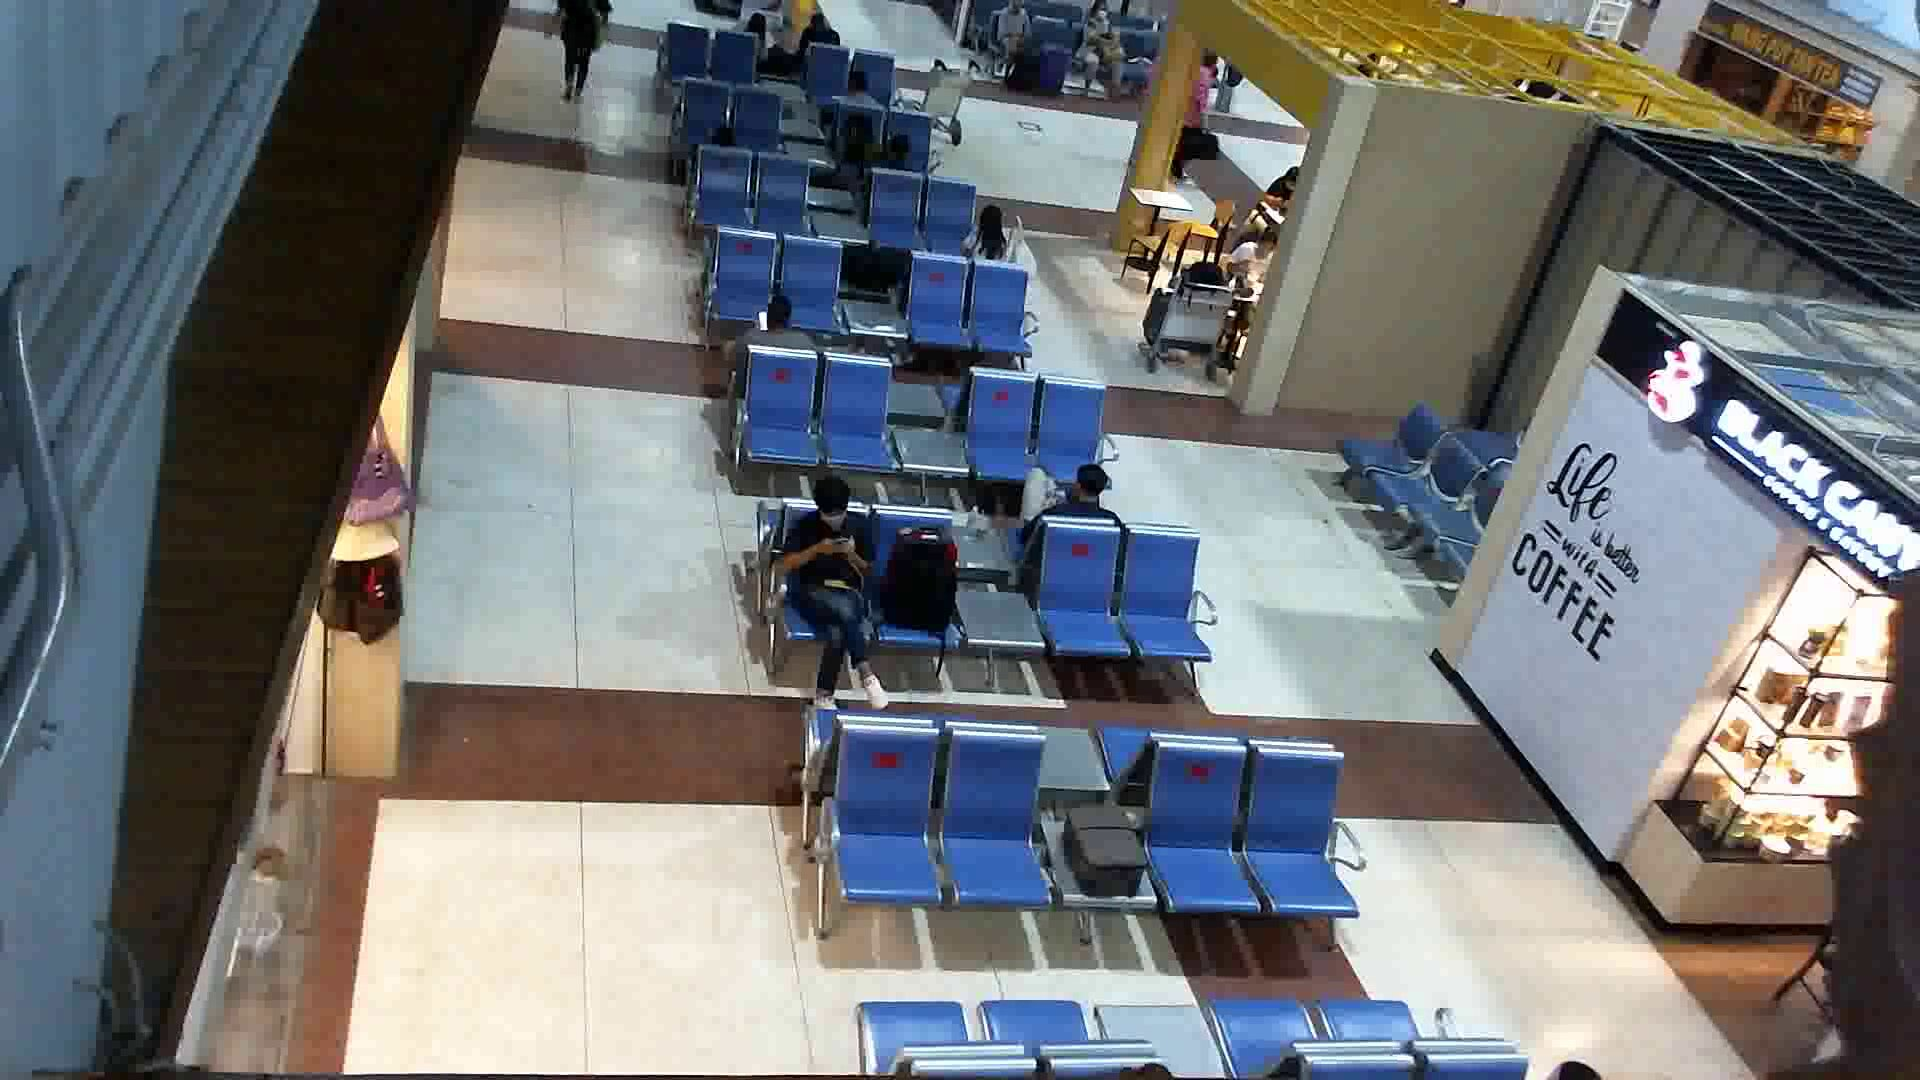bag: (307, 524, 401, 646), (325, 400, 415, 522), (1178, 124, 1226, 163)
luggage: (1056, 797, 1155, 913), (884, 522, 969, 654), (1138, 285, 1189, 354), (1033, 38, 1070, 109)
people: (776, 469, 897, 747), (1010, 453, 1134, 578), (714, 295, 828, 392), (1162, 38, 1228, 191), (542, 1, 619, 111), (1072, 1, 1134, 114), (953, 197, 1019, 288), (1232, 223, 1287, 297), (797, 9, 851, 73), (1257, 159, 1314, 217), (981, 1, 1030, 68)
